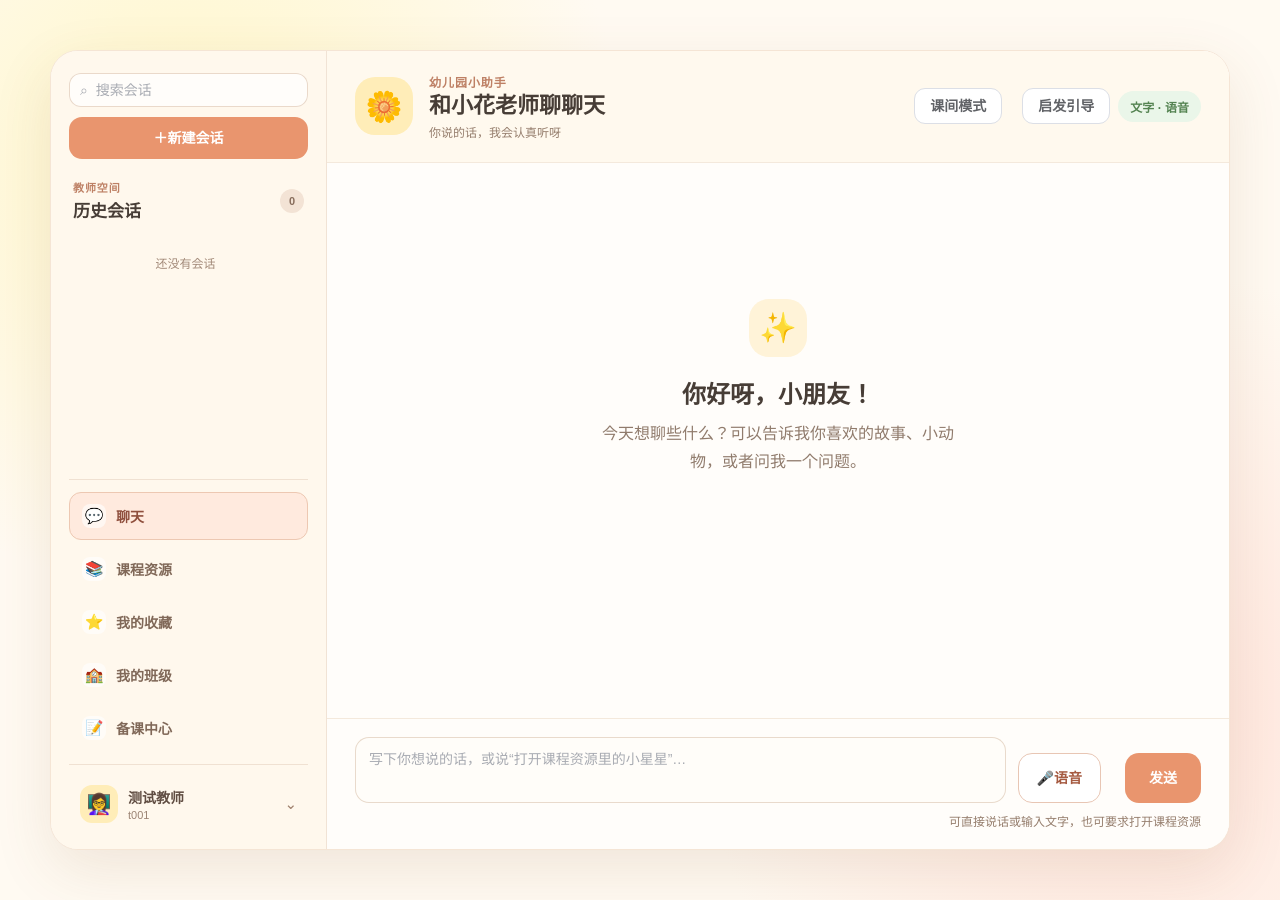
Test: ChatView · 课间模式与启发式助教分离 › 8. 启发式助教独立入口：点击「启发引导」仍正常打开
What coordinates should you click on to do the following:
click the button with class "assistant-mode-button"
I would click on:
 (1066, 106)
Its box is [1022,88,1110,124].
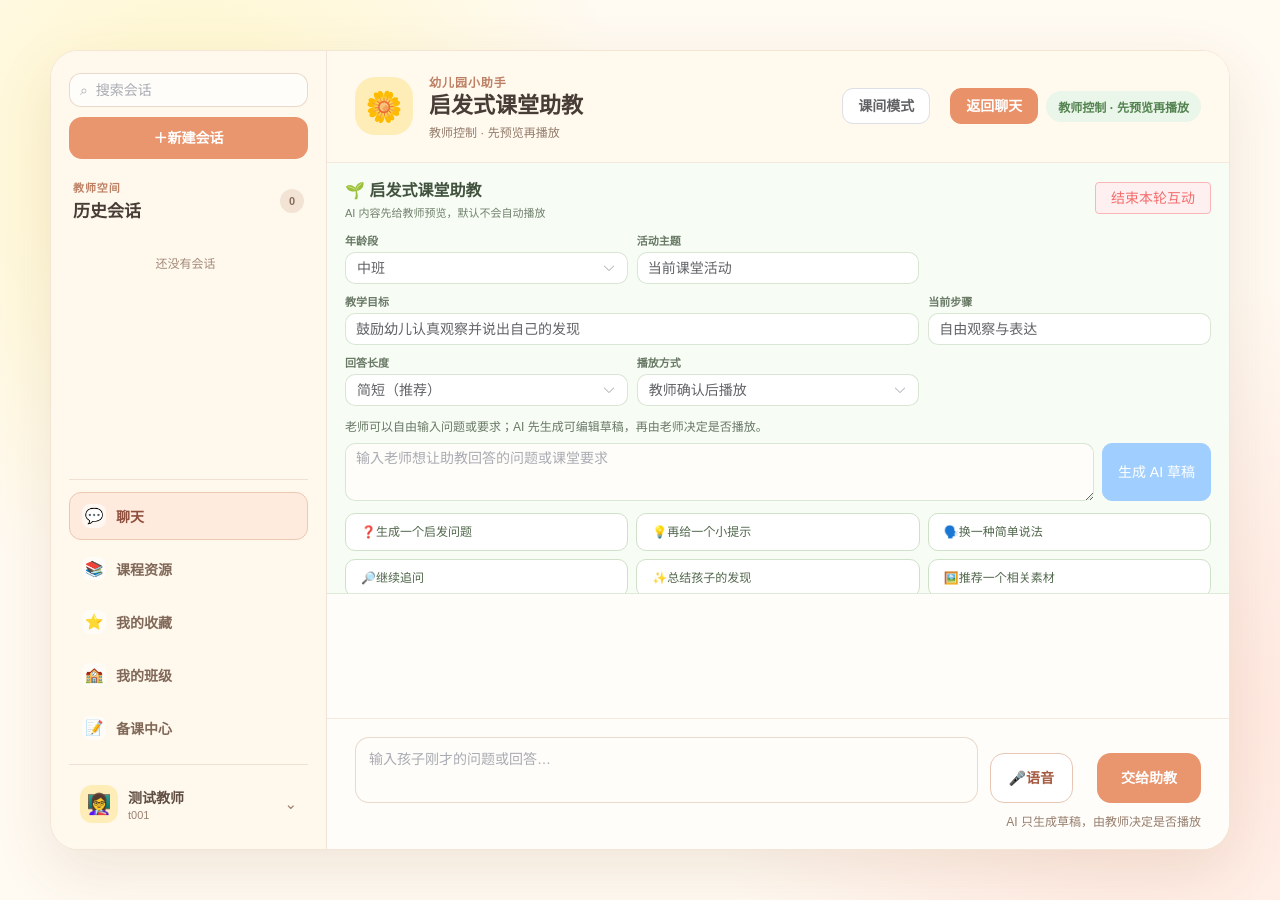
Now the button with class "assistant-mode-button" reads "返回聊天", box [950,88,1038,124]
Now the text "启发式课堂助教" is shown, box [429,93,583,118]
